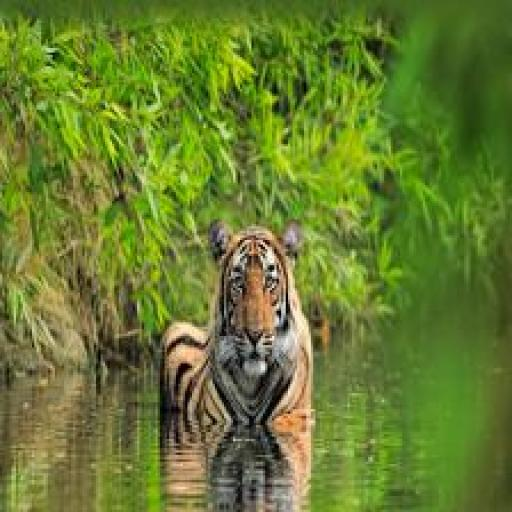Tiger: (158, 217, 313, 433)
